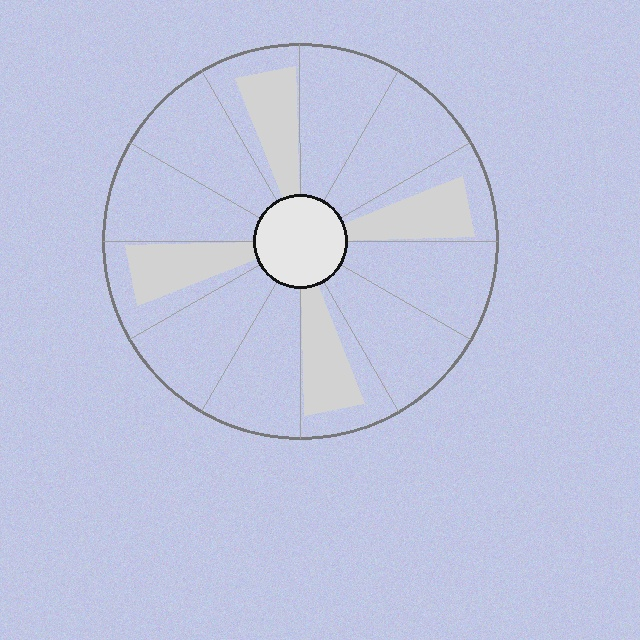fan: (98, 39, 502, 443)
